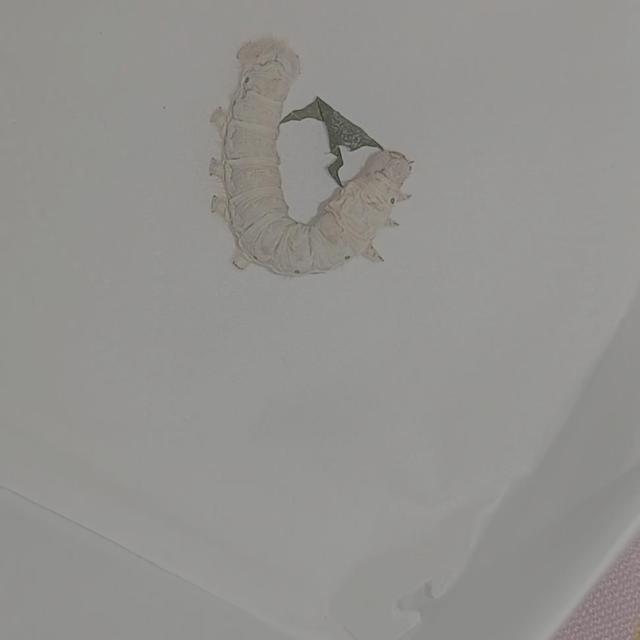Healthy: (182, 13, 453, 305)
